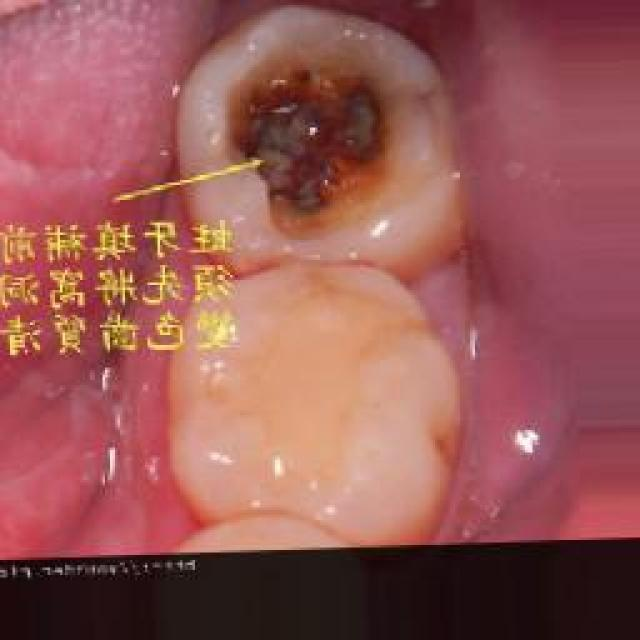caries: (222, 58, 430, 228)
